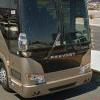Bus: (2, 3, 94, 99)
